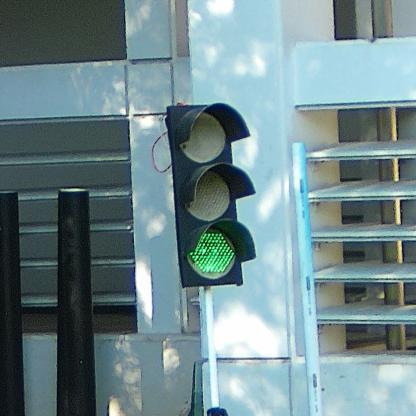green: (166, 103, 256, 289)
